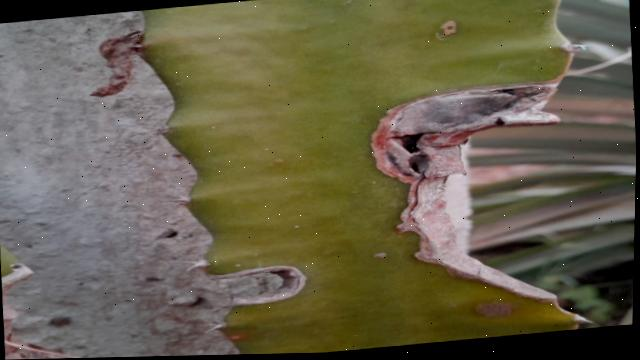stemcanker: (474, 300, 516, 321), (432, 20, 461, 43), (365, 247, 393, 265)
